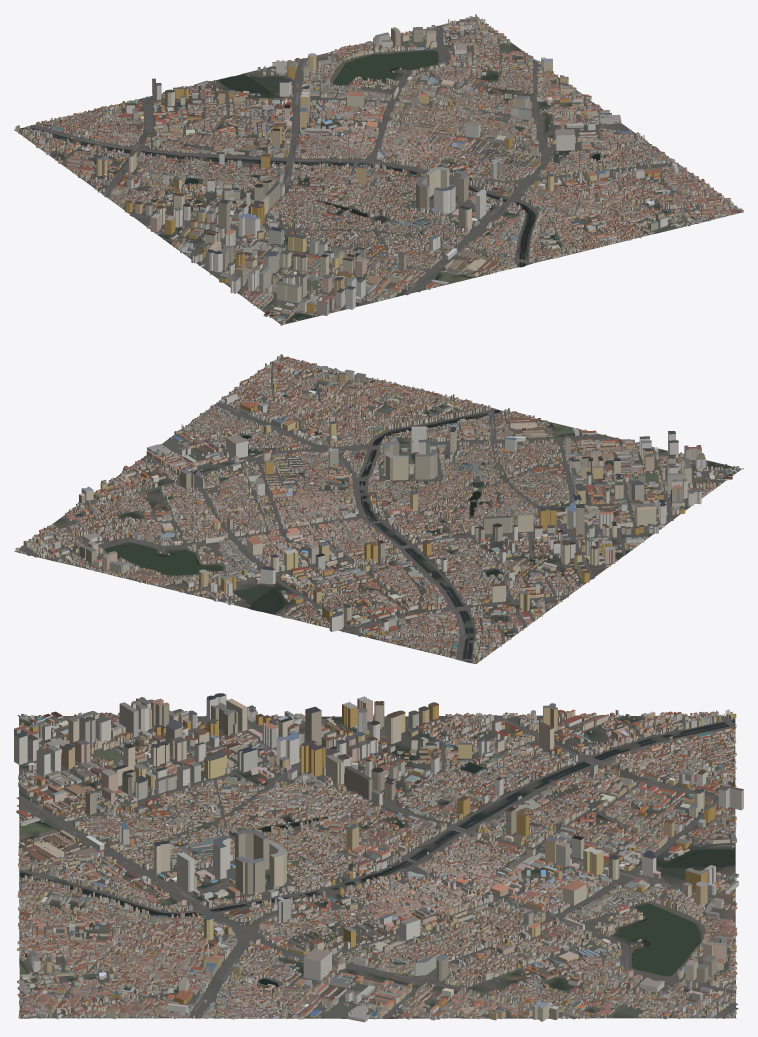
3 renders of one model, top to bottom at view 1: azimuth 30°, elevation 25°; view 2: azimuth 150°, elevation 25°; view 3: azimuth 270°, elevation 25°, orthographic. The views are drawn at different scales.
Parts seen in each view (by area): view 1: buildings, ground, roads, water; view 2: buildings, ground, roads, water; view 3: buildings, ground, roads, water.
Boxes of the visible parts, box(x1,y1,x2,y2) form: buildings: box(15, 14, 743, 323); ground: box(14, 18, 740, 324); roads: box(15, 19, 729, 325); water: box(20, 50, 599, 266); buildings: box(15, 354, 739, 663); ground: box(15, 357, 740, 663); roads: box(14, 366, 743, 663); water: box(76, 410, 501, 662); buildings: box(14, 693, 743, 1022); ground: box(19, 715, 735, 1018); roads: box(16, 715, 738, 1019); water: box(19, 720, 734, 1018).
Bounding box in the file's own units: 2863 × 183 × 2857.
